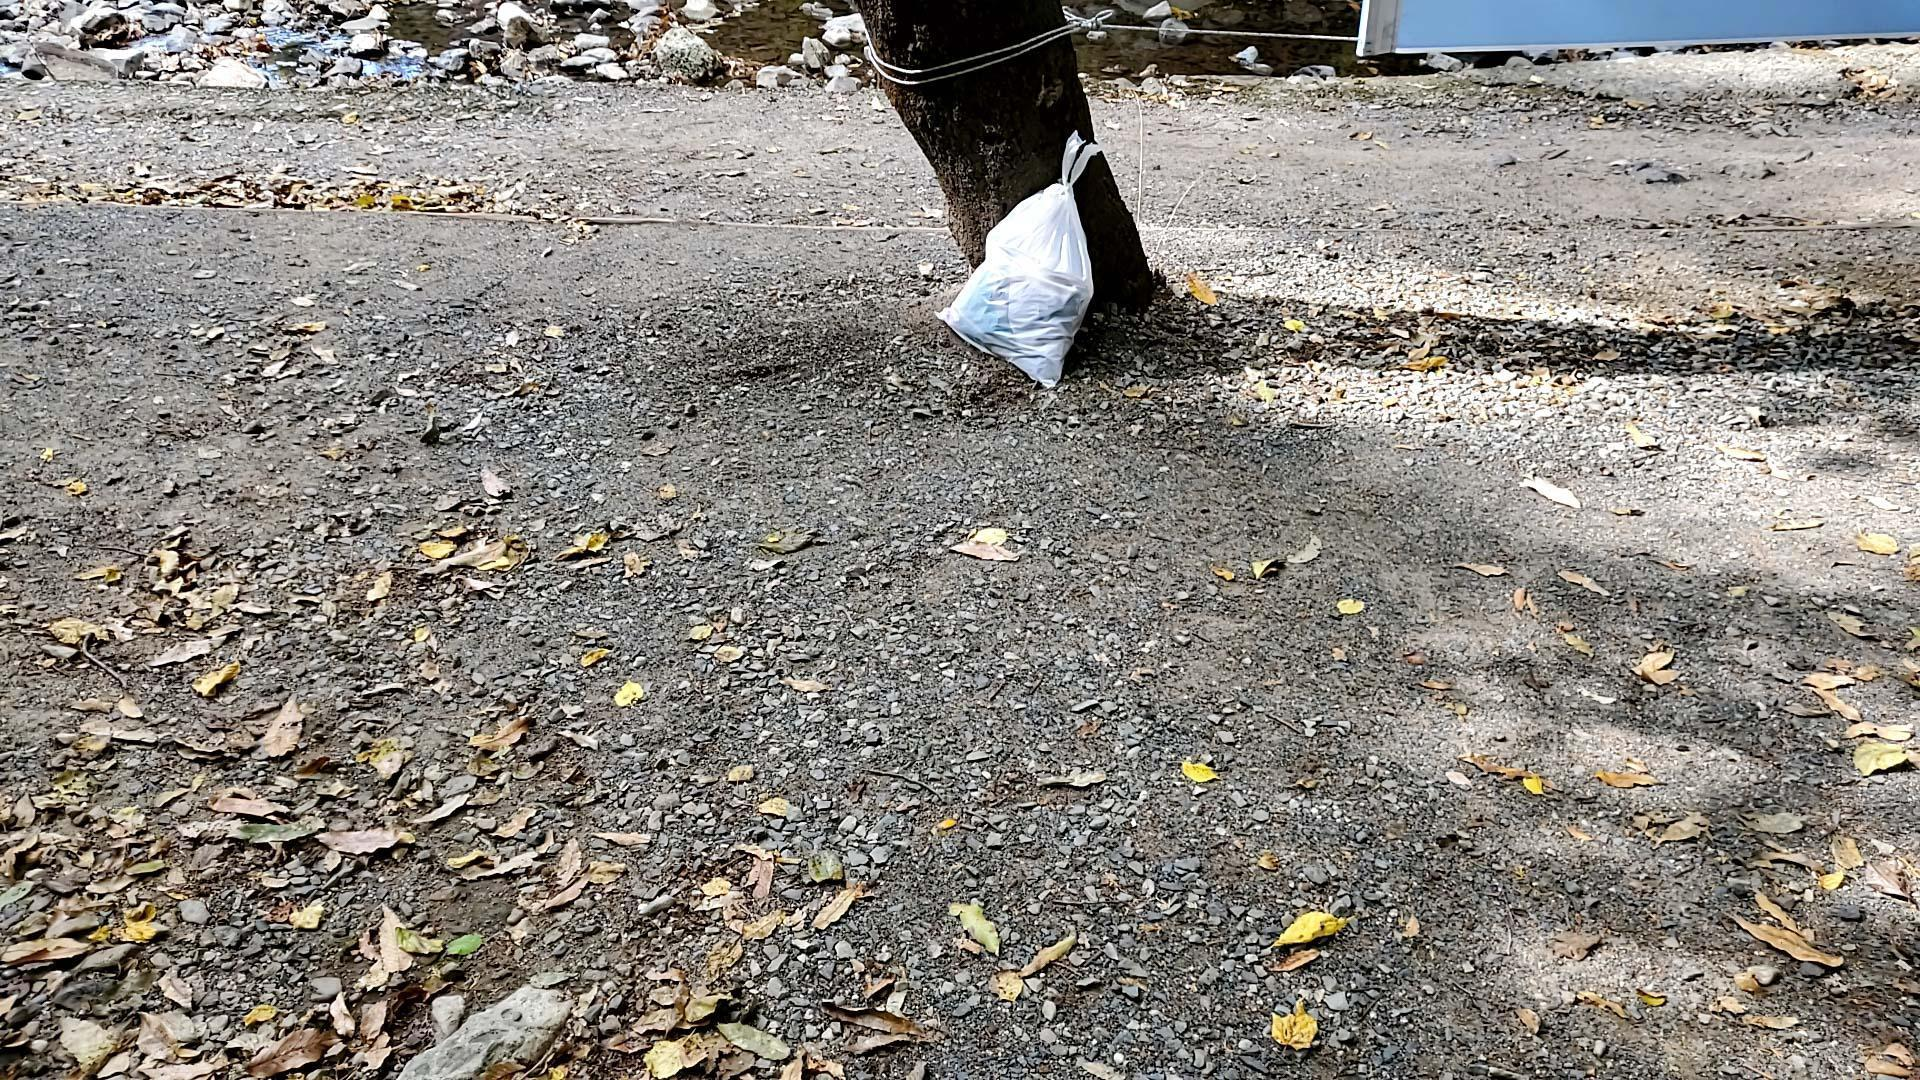white_bag: (926, 116, 1135, 397)
